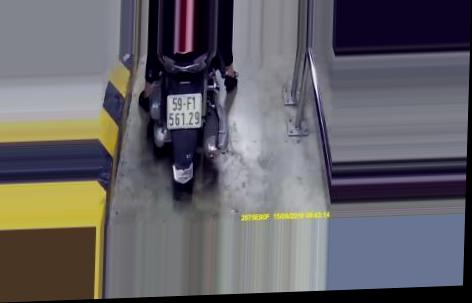License_Plate: (164, 91, 205, 130)
